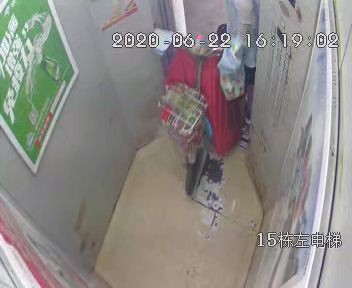Electric-bicycle: (153, 25, 230, 185)
